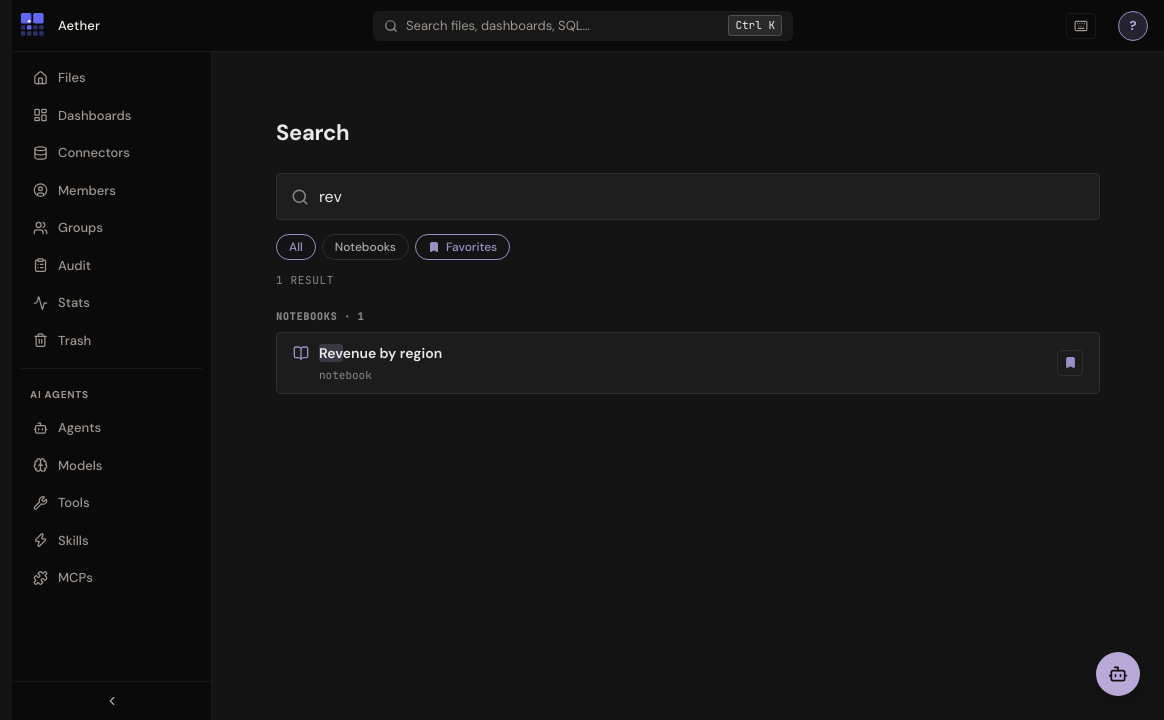
Test case: SearchPage › un-favoriting under the Favorites filter hides the row and count immediately
Check: the link "Revenue by region notebook" is shown, box [293, 344, 442, 382]
Check: the message reads "1 result", box [276, 273, 334, 287]
What coordinates should you click on to do the following:
click the button named "Remove from favorites"
I would click on:
 (1070, 363)
Its box is [1057, 350, 1083, 376].
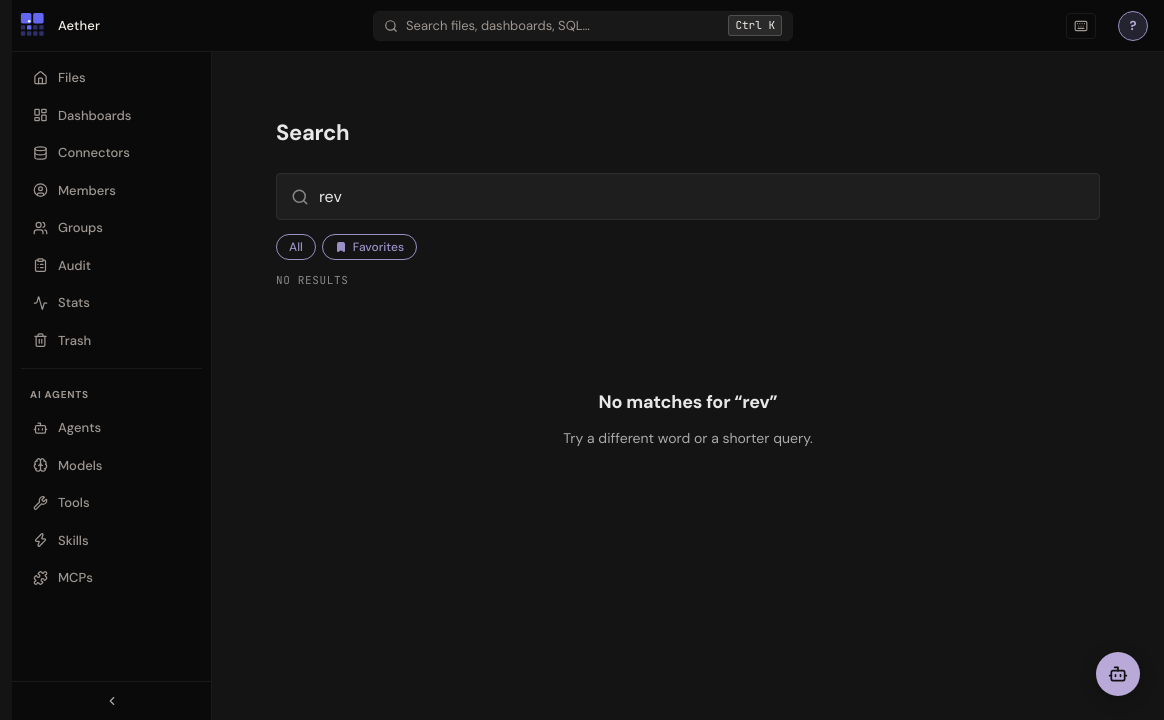
Check: the link "Revenue by region" is gone
Check: the message reads "No results", box [276, 273, 349, 287]
